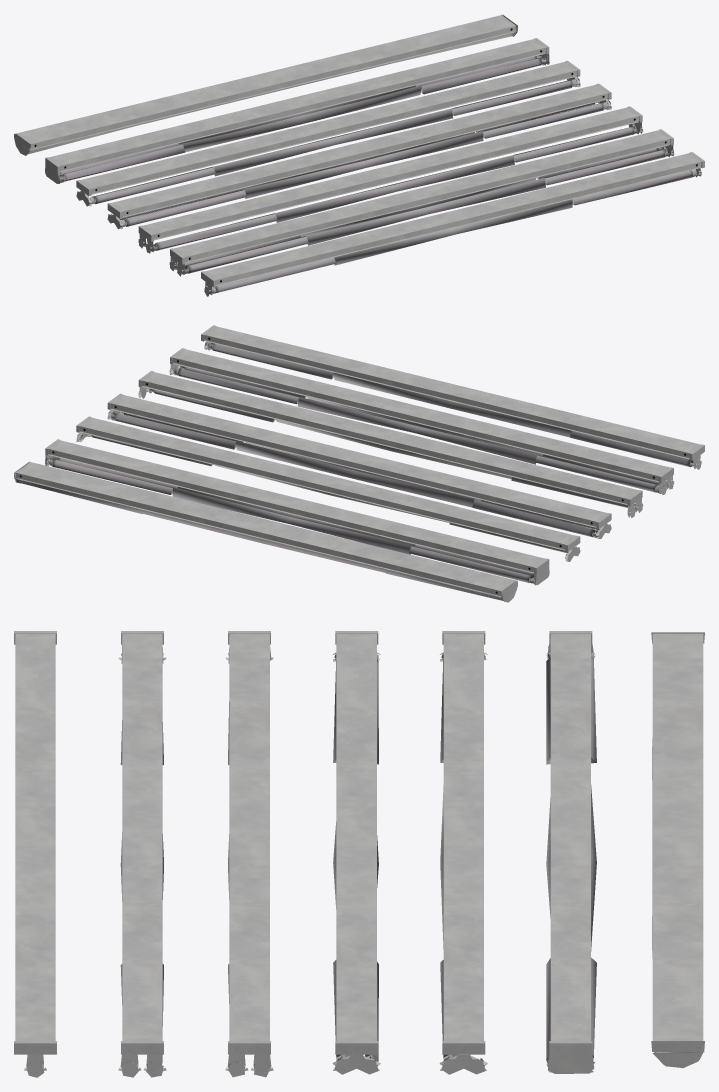
Rendered from ph_mounted_fluorescent_lights.glb.
3 renders of one model, top to bottom at view 1: azimuth 30°, elevation 25°; view 2: azimuth 150°, elevation 25°; view 3: azimuth 270°, elevation 25°, orthographic. The views are drawn at different scales.
Parts seen in each view (by area): view 1: mounted_fluorescent_lights_a; view 2: mounted_fluorescent_lights_a; view 3: mounted_fluorescent_lights_a.
Part boxes in pixels (bbox=[...]): mounted_fluorescent_lights_a: bbox=[14, 14, 704, 296]; mounted_fluorescent_lights_a: bbox=[14, 325, 704, 602]; mounted_fluorescent_lights_a: bbox=[14, 631, 704, 1077].
Bounding box in the file's own units: 0.9122 × 0.0357 × 0.6454.
2 materials, 2 textured.
